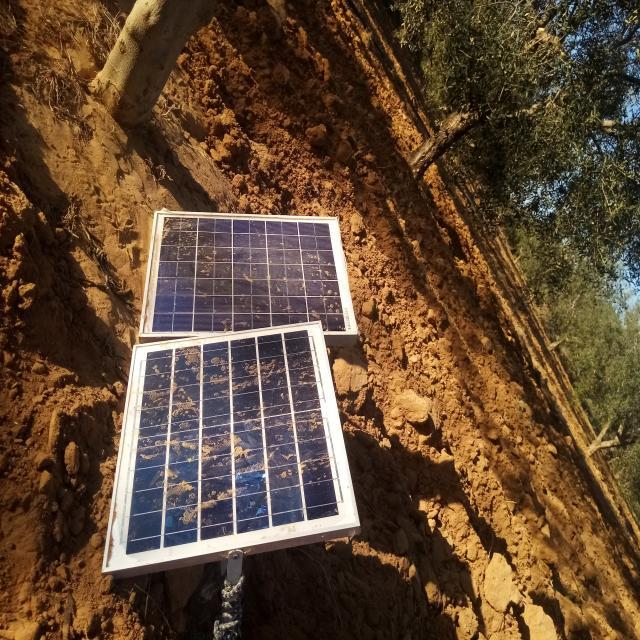faulty: (105, 321, 359, 571), (140, 212, 352, 334)
